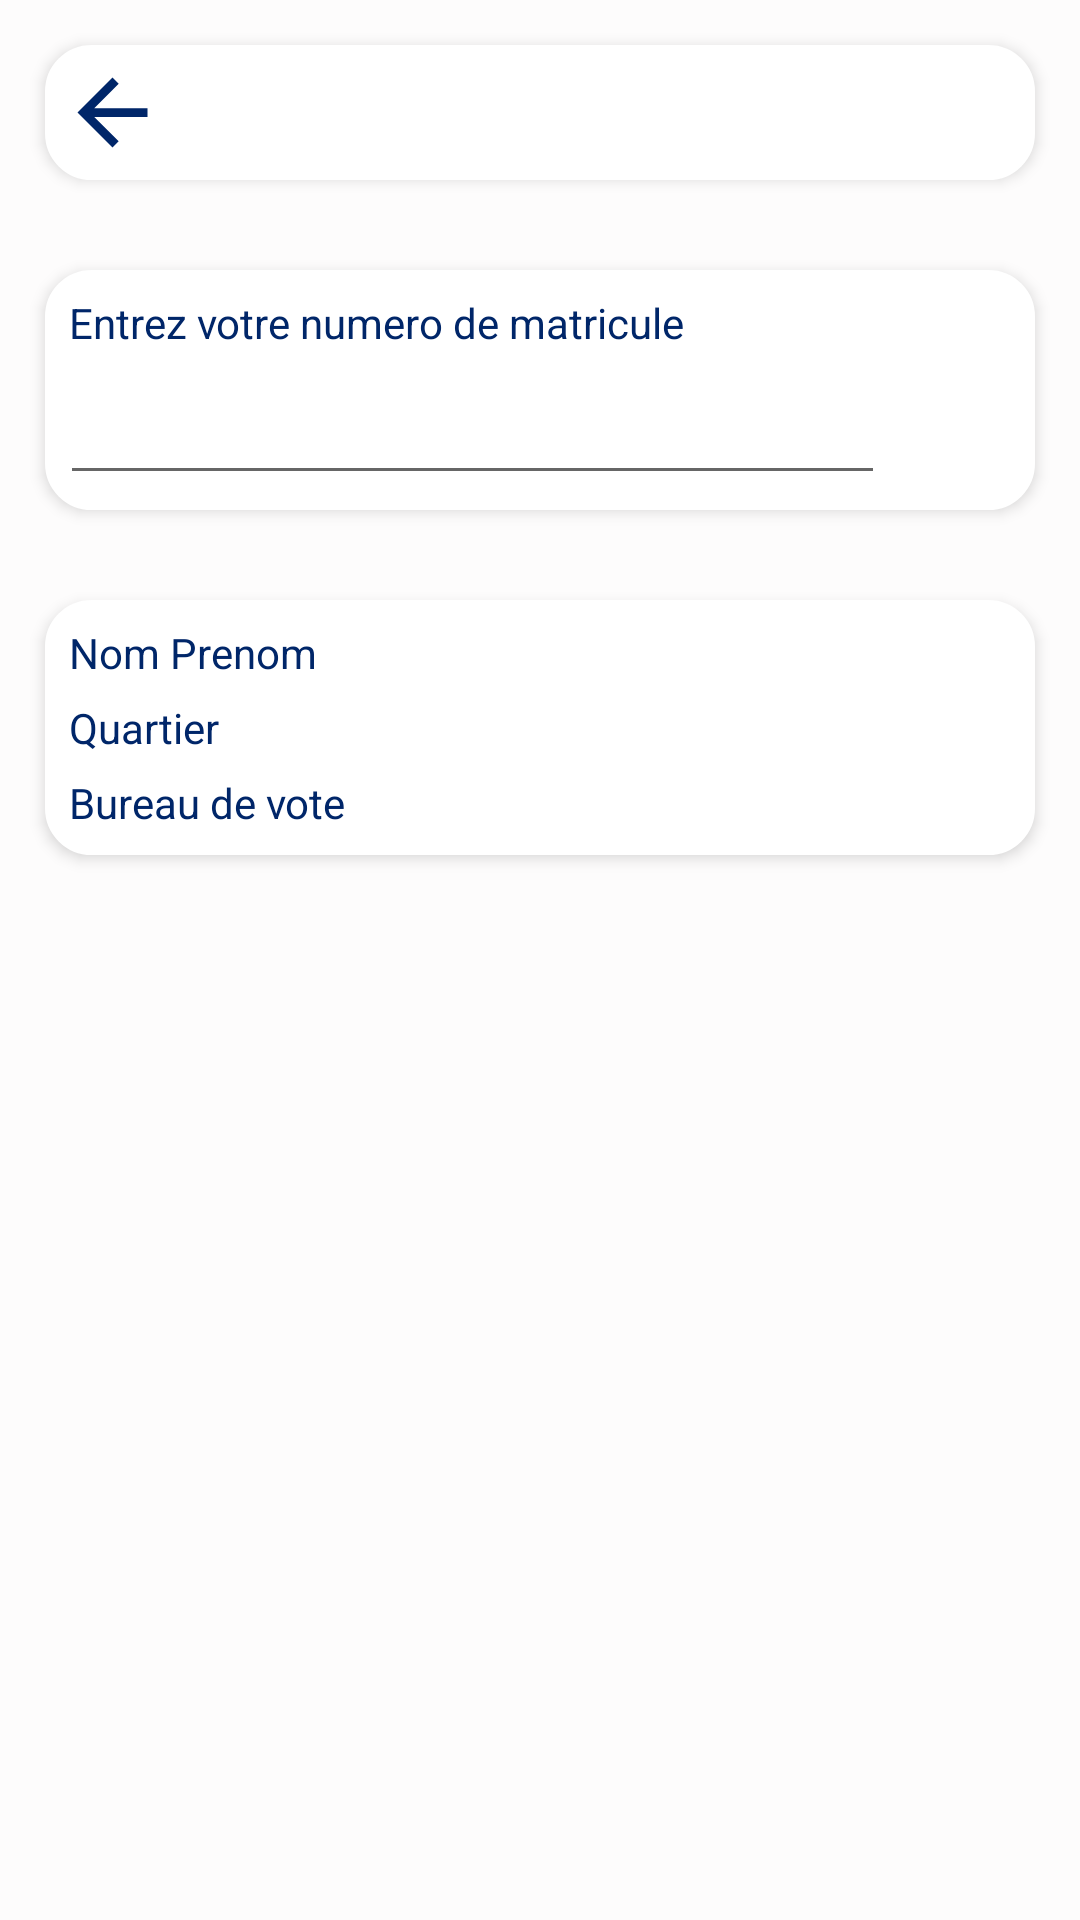

Point at icon controls on the screen. Image size 1080px x 1920px, points as point (x, y).
back: point (112, 112)
